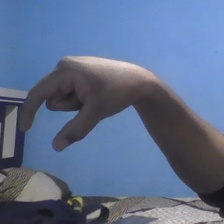Q: (14, 50, 143, 154)
